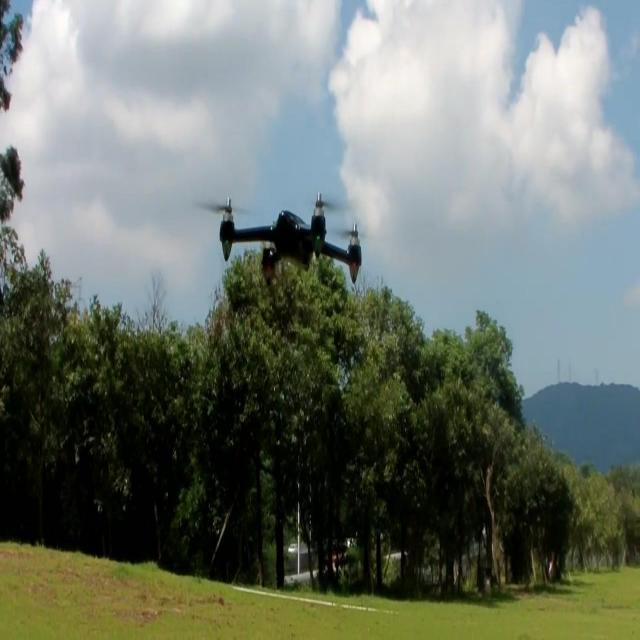drone: (219, 191, 364, 300)
